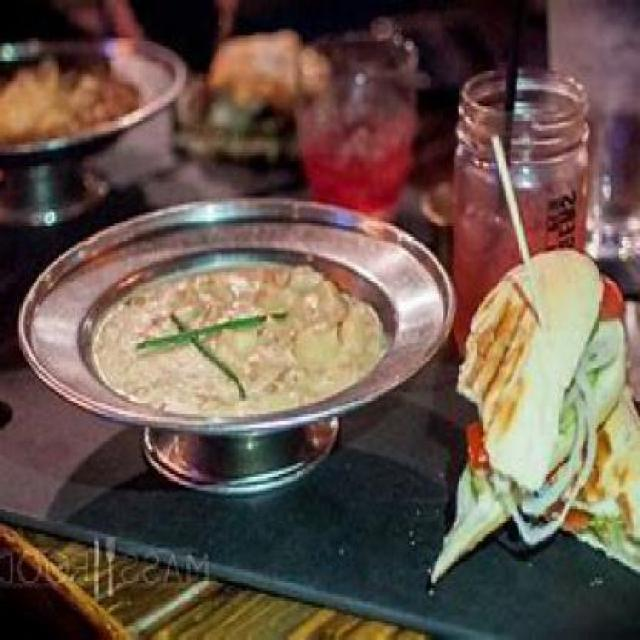clam chowder: (44, 204, 402, 479)
club sandwich: (188, 21, 318, 177)
